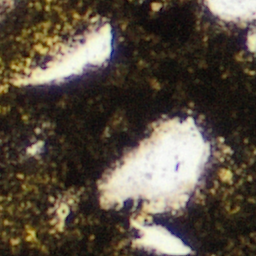cement_matrix: (0, 0, 255, 255), (11, 21, 113, 86), (53, 199, 70, 228), (28, 143, 40, 155), (221, 171, 230, 179)
gravel_crushed_stones: (100, 118, 212, 255), (12, 22, 112, 85), (204, 0, 255, 24), (54, 200, 69, 227), (247, 28, 255, 51), (29, 144, 39, 154), (222, 172, 229, 178), (0, 0, 9, 3), (0, 84, 1, 87)
